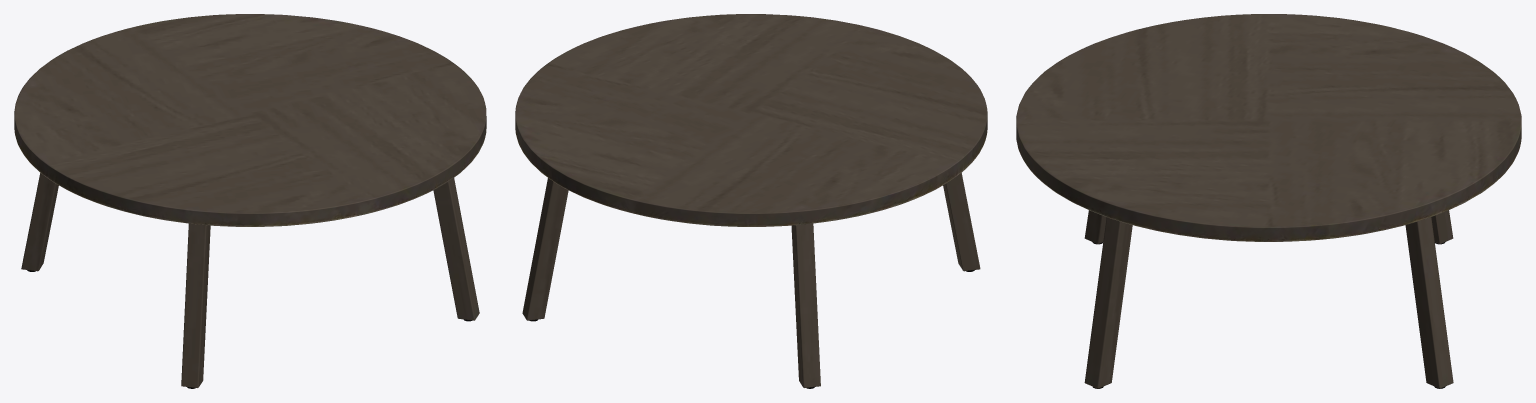
The picture shows the model from 3 angles, left to right: view 1: azimuth 30°, elevation 25°; view 2: azimuth 150°, elevation 25°; view 3: azimuth 270°, elevation 25°; orthographic projection. The views are drawn at different scales.
Visible parts, largest first — view 1: ASY_ART_50586555_S01_NV01; view 2: ASY_ART_50586555_S01_NV01; view 3: ASY_ART_50586555_S01_NV01.
Boxes of the visible parts, x1=… form: ASY_ART_50586555_S01_NV01: x1=14, y1=14, x2=486, y2=388; ASY_ART_50586555_S01_NV01: x1=515, y1=14, x2=987, y2=388; ASY_ART_50586555_S01_NV01: x1=1016, y1=14, x2=1521, y2=388.
Bounding box in the file's own units: 0.9001 × 0.3817 × 0.9001.
1 material, 1 textured.
